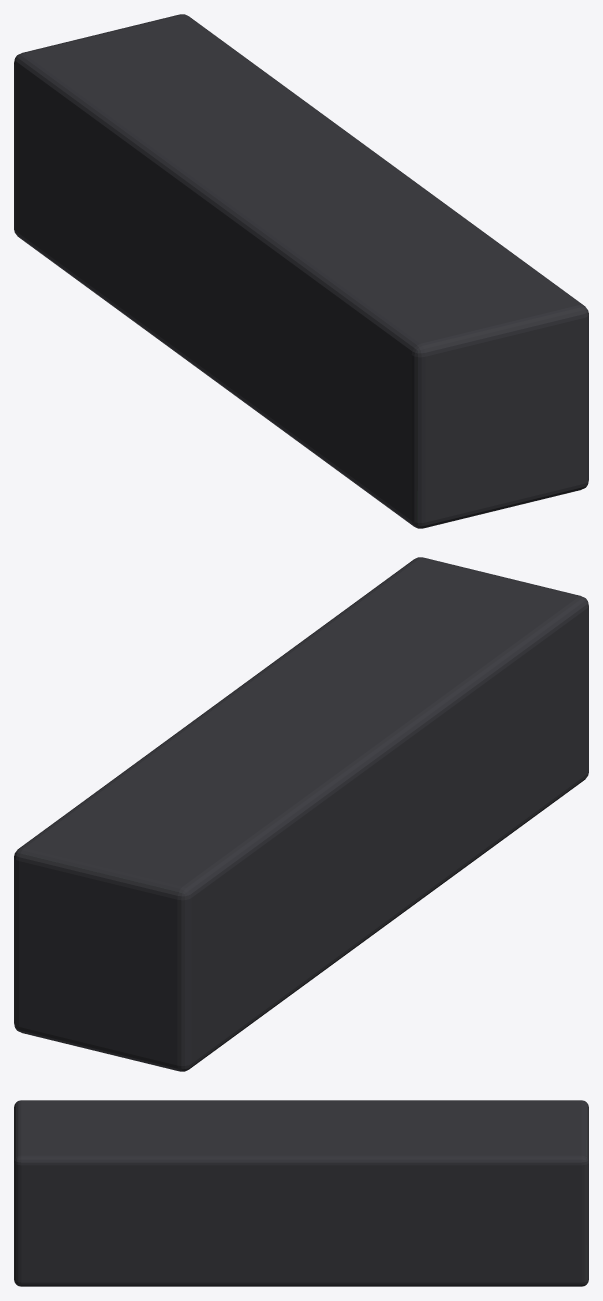
3 renders of one model, top to bottom at view 1: azimuth 30°, elevation 25°; view 2: azimuth 150°, elevation 25°; view 3: azimuth 270°, elevation 25°, orthographic. The views are drawn at different scales.
Visible parts, largest first — view 1: I; view 2: I; view 3: I.
Boxes of the visible parts, x1,y1,x2,y2 form: I: (14,14,588,528); I: (14,557,588,1071); I: (14,1100,588,1286).
Size of the model in its own units: 1 by 1 by 4.
1 material, 1 textured.
